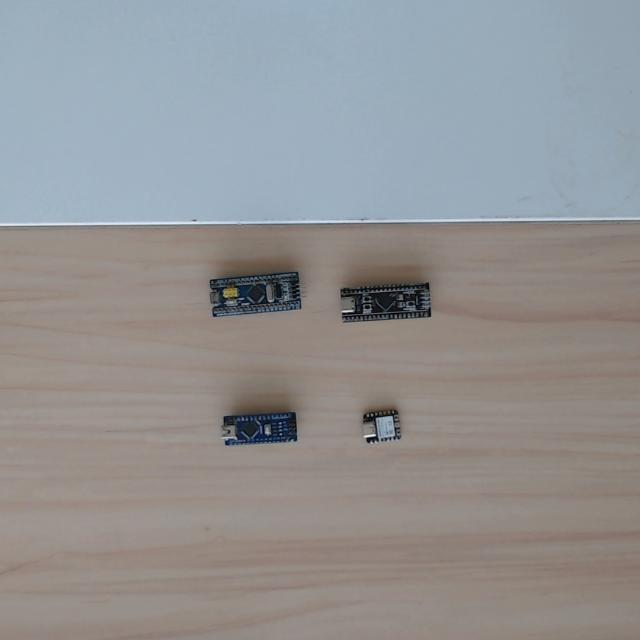Arduino-Nano: (220, 410, 301, 452)
ESP32C3-Xiao: (358, 406, 403, 449)
STM32-Blackpill: (338, 283, 433, 326)
STM32-Bluepill: (206, 270, 304, 321)
